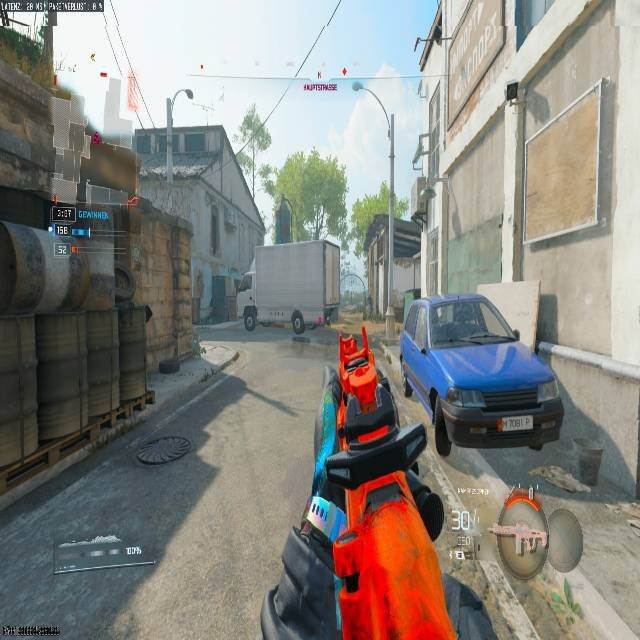player: (288, 307, 312, 344), (242, 298, 257, 334)
